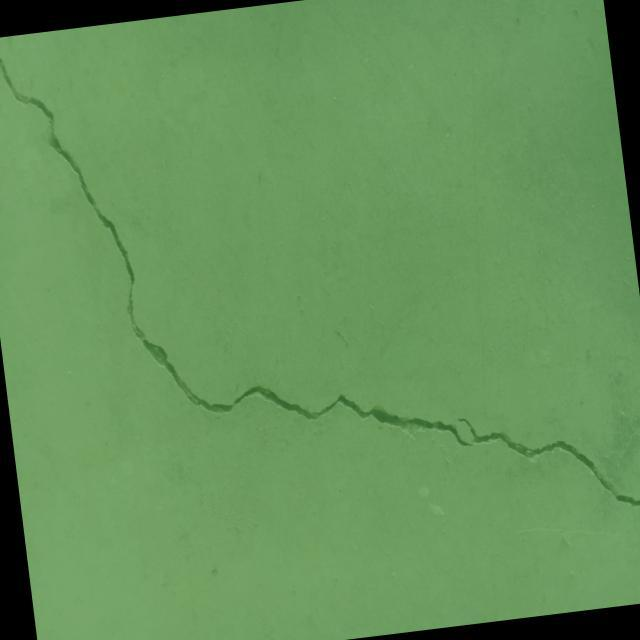crack: (0, 0, 640, 587), (635, 428, 640, 454)
